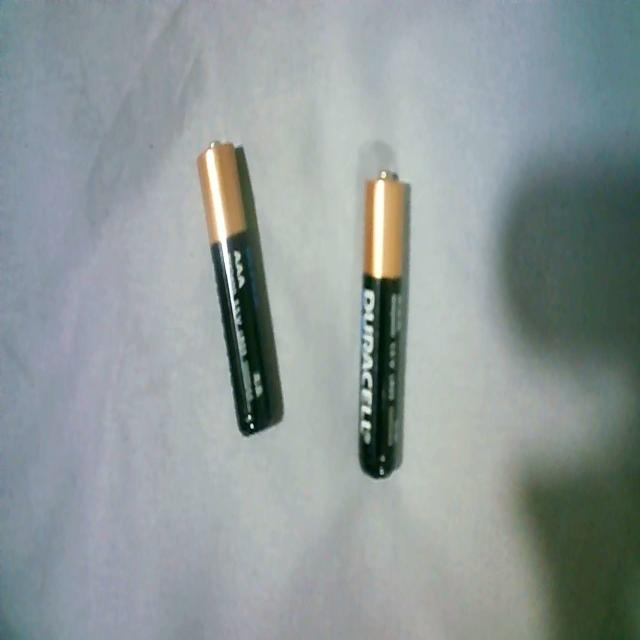AAA: (192, 129, 284, 445), (353, 160, 411, 486)
